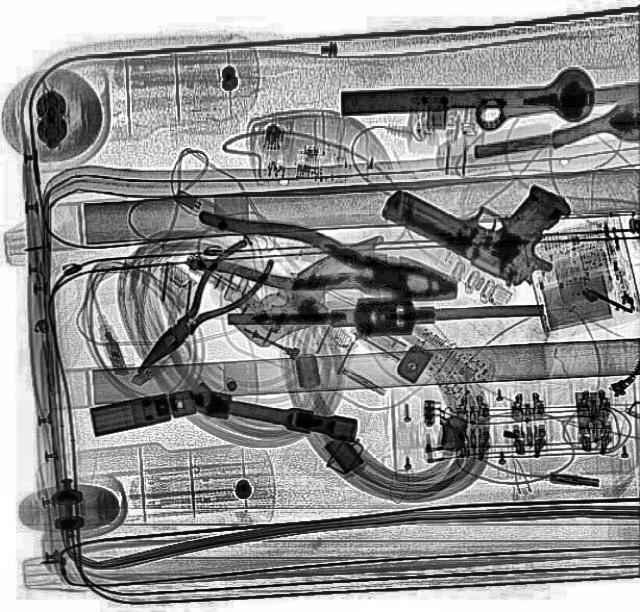Gun: (373, 126, 591, 298)
Pliers: (182, 205, 464, 318), (118, 233, 282, 387)
